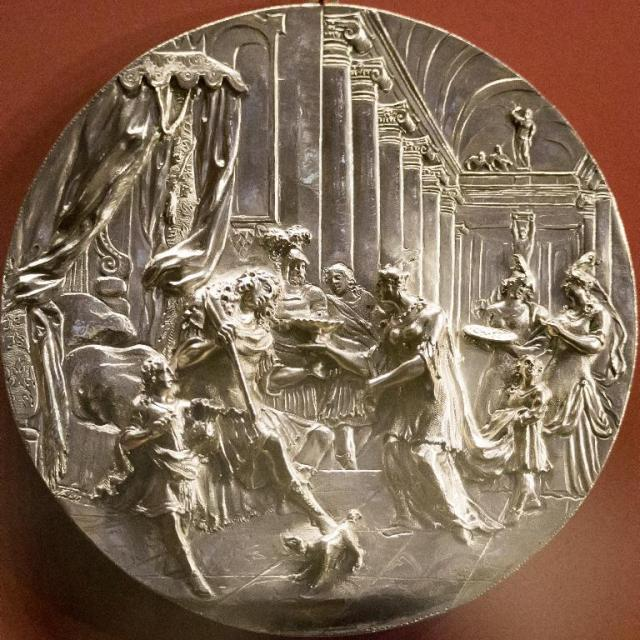Coin: (0, 2, 639, 639)
